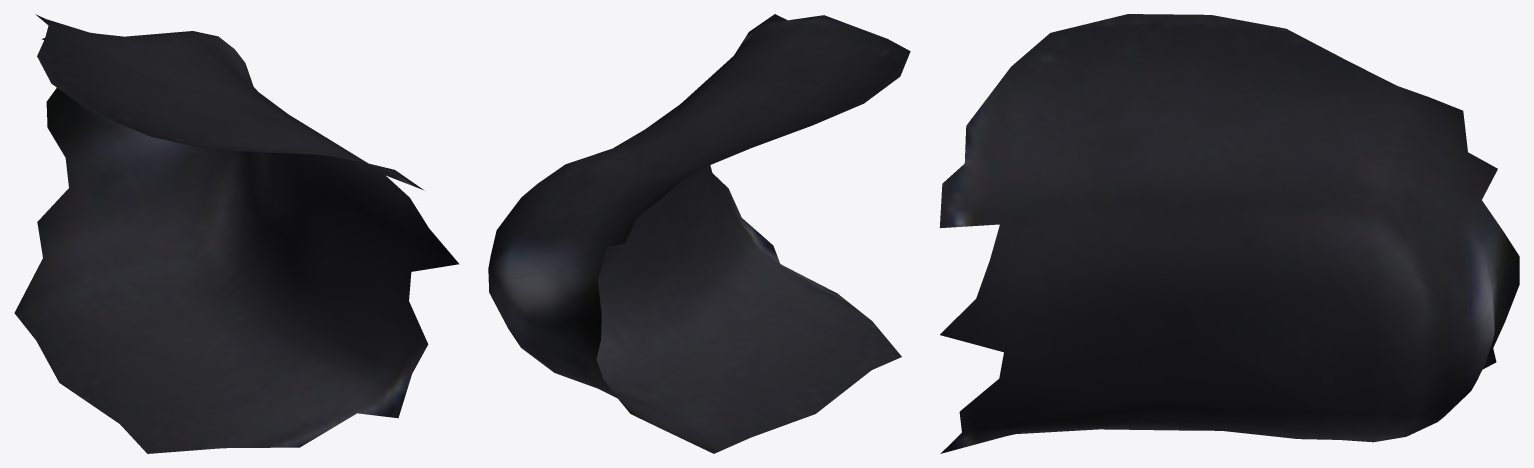
File: trigger.obj
The picture shows the model from 3 angles, left to right: view 1: azimuth 30°, elevation 25°; view 2: azimuth 150°, elevation 25°; view 3: azimuth 270°, elevation 25°; orthographic projection. The views are drawn at different scales.
Parts seen in each view (by area): view 1: trigger_drillphotogram.001; view 2: trigger_drillphotogram.001; view 3: trigger_drillphotogram.001.
Part boxes in pixels (x1,y1,x2,y2): trigger_drillphotogram.001: (14, 14, 459, 453); trigger_drillphotogram.001: (488, 14, 910, 453); trigger_drillphotogram.001: (939, 14, 1519, 453).
Bounding box in the file's own units: 0.0212 × 0.0228 × 0.0337.
Materials: 1 (1 with a texture image).
